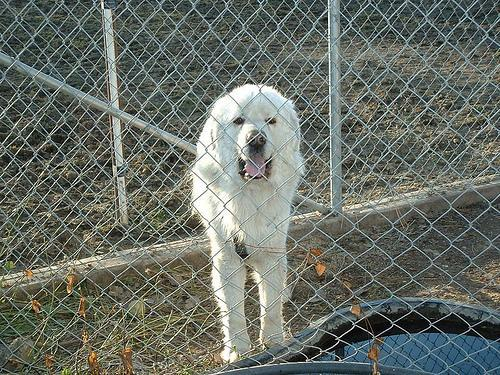Great_Pyrenees: (192, 84, 305, 364)
